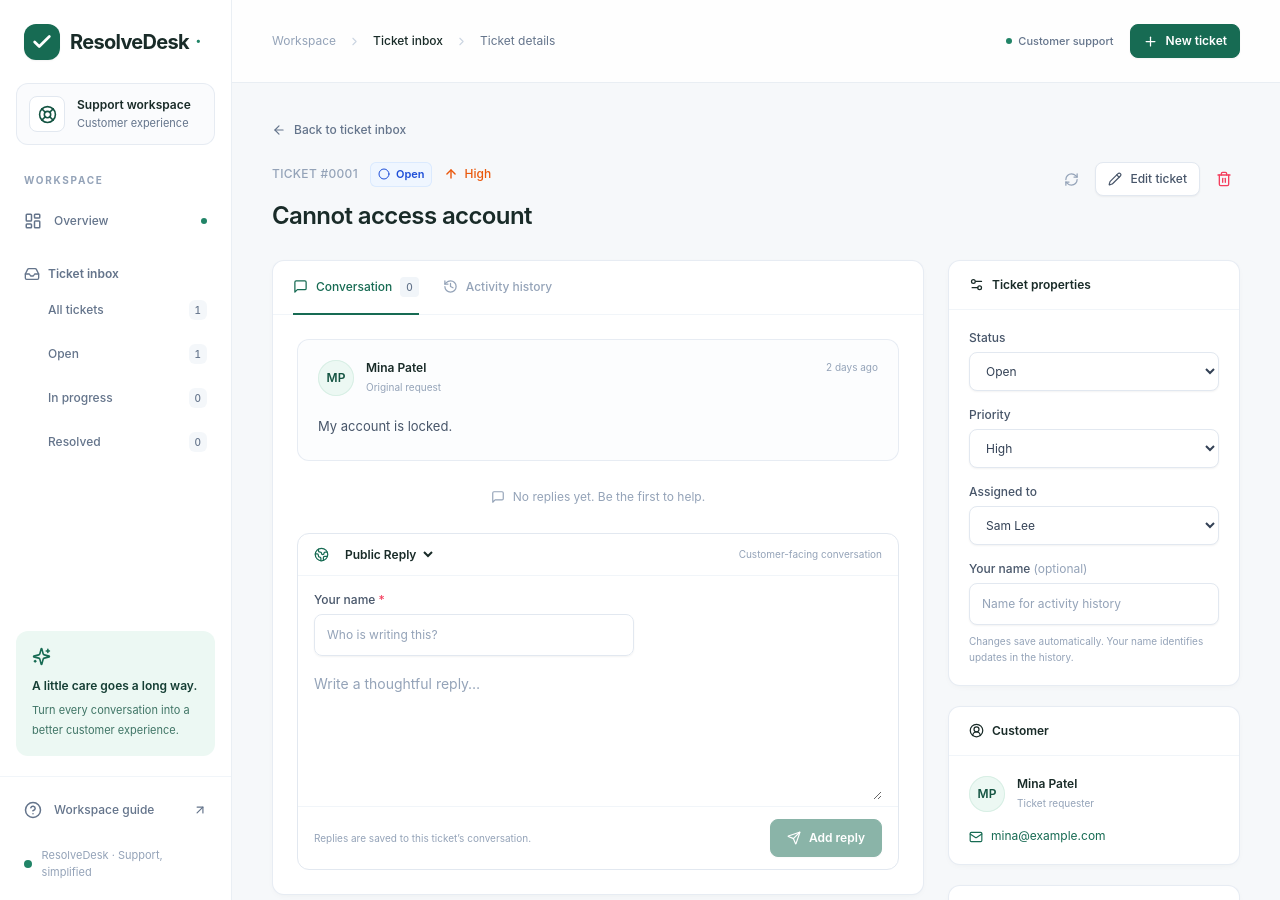
Test case: workspace workflows › adds a public reply with the selected author
The width and height of the screenshot is (1280, 900).
Expected: the heading "Cannot access account" is shown, [272,200,532,230]
Type "Jordan" into the field labelled "Your name *" at (474, 634), box [314,614,634,656]
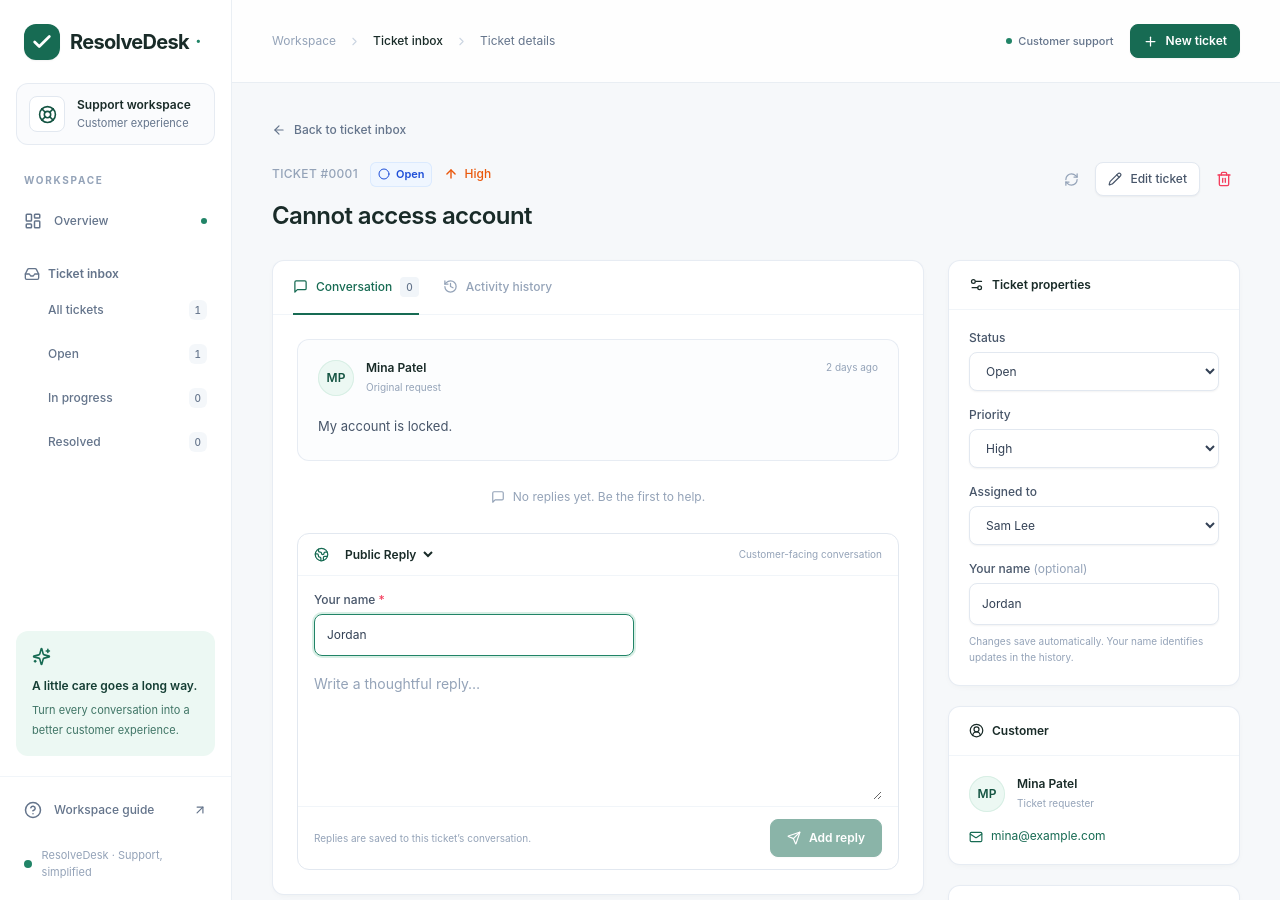
Type "Your account is ready." into the text box named "Reply message" at (598, 736), box [314,672,882,800]
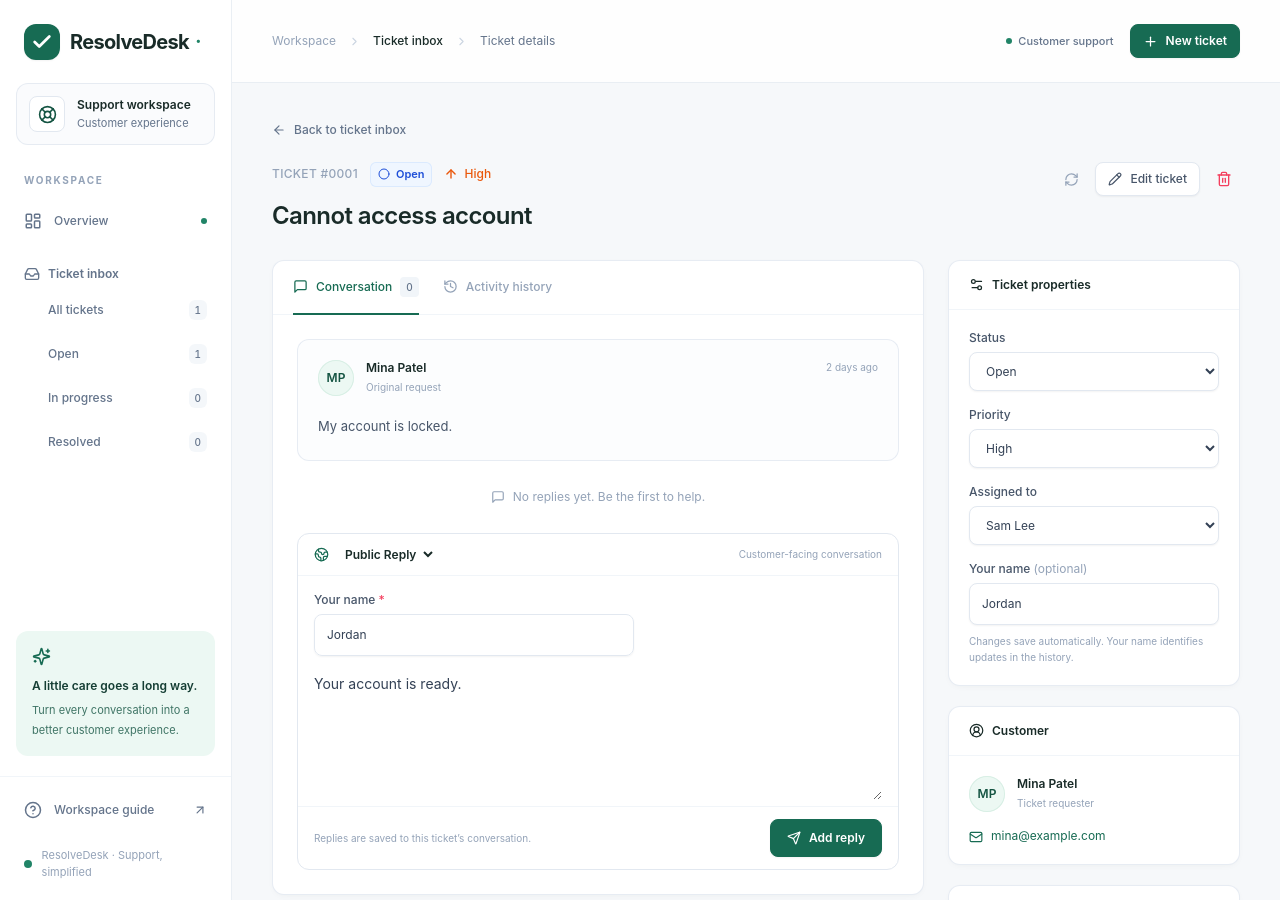
Click the button "Add reply" at (826, 838), box [770,818,882,856]
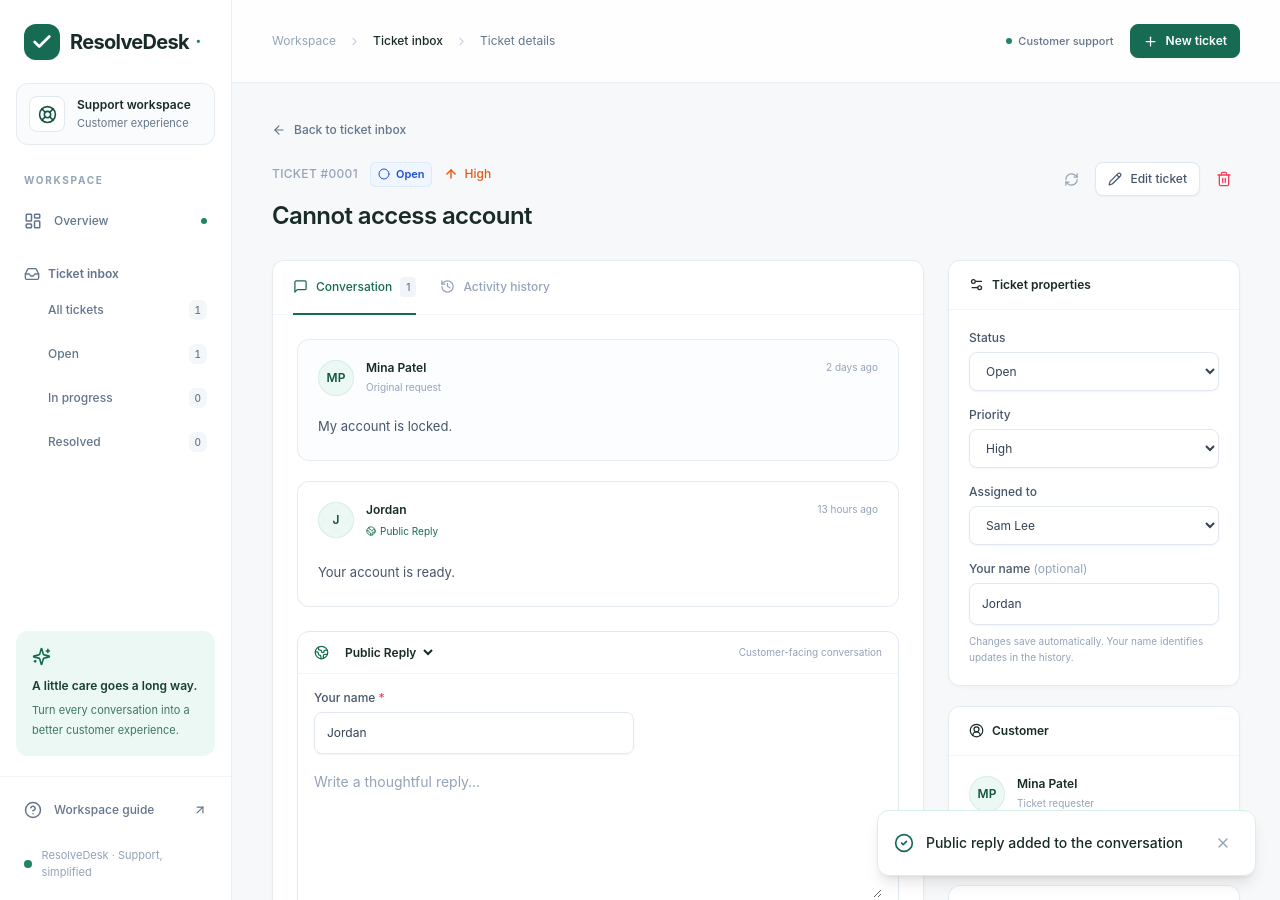
Now the text "Your account is ready." is shown, box [318,564,455,580]
